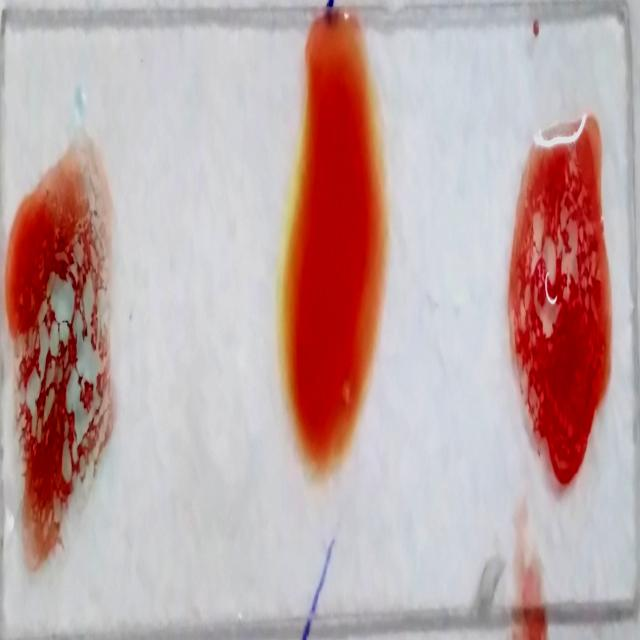A: (4, 148, 118, 534)
D: (512, 114, 610, 490)
